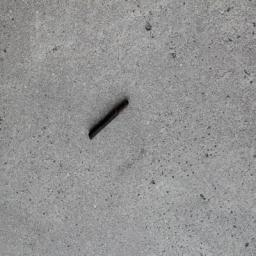FOD: (84, 97, 140, 142)
